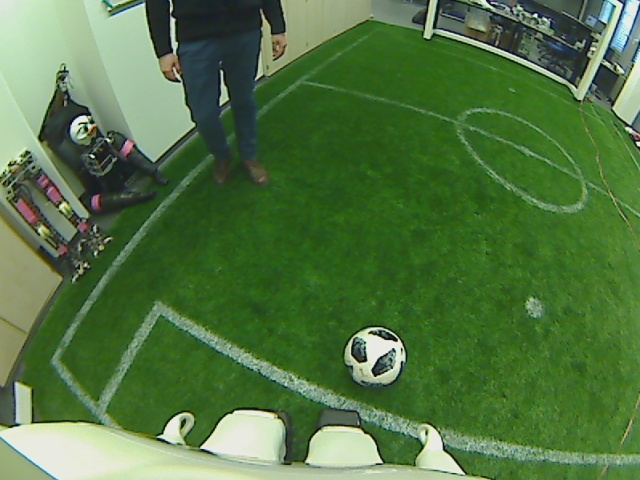ball: (340, 324, 407, 389)
